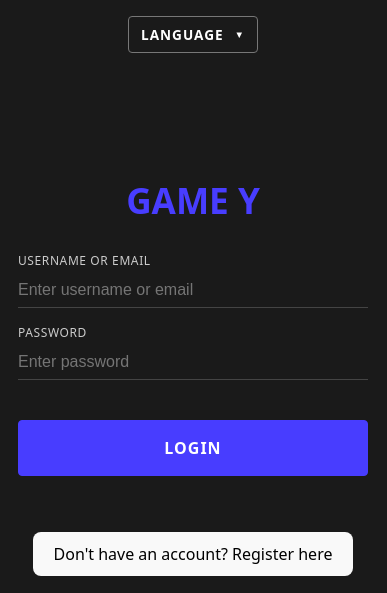
RegisterForm › handles server error with specific message
Type "Pablo" into the field labelled "Username or Email" at coordinates (193, 291), box [18, 273, 368, 308]
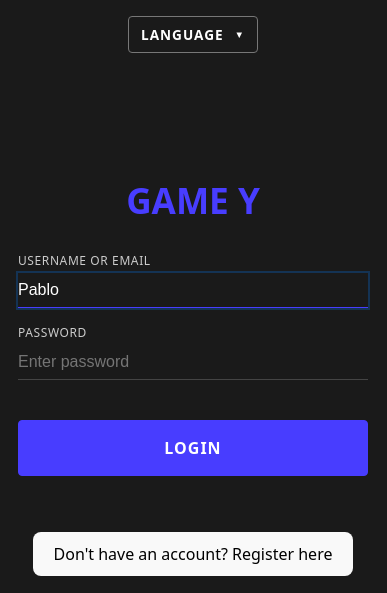
Type "secret" into the password field labelled "Password" at coordinates (193, 363), box [18, 346, 368, 380]
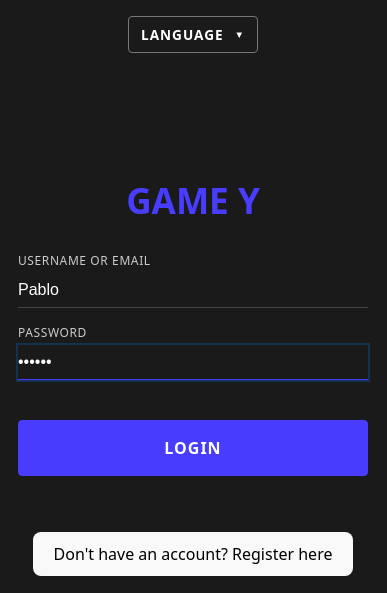
Click the button "LOGIN" at coordinates (193, 448), box [18, 420, 368, 476]
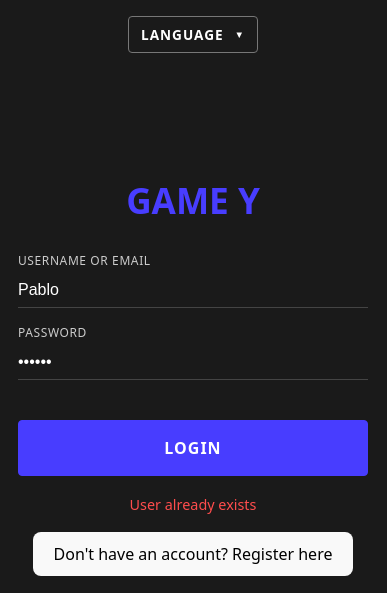
Check: the text "User already exists" is shown, box [130, 494, 256, 515]
